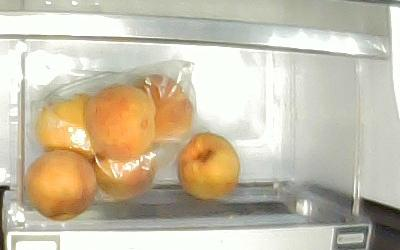peach: (81, 82, 157, 160), (24, 147, 96, 220), (175, 130, 241, 199)
peach_vinyl: (39, 92, 98, 161), (133, 74, 193, 141), (90, 154, 159, 198)
